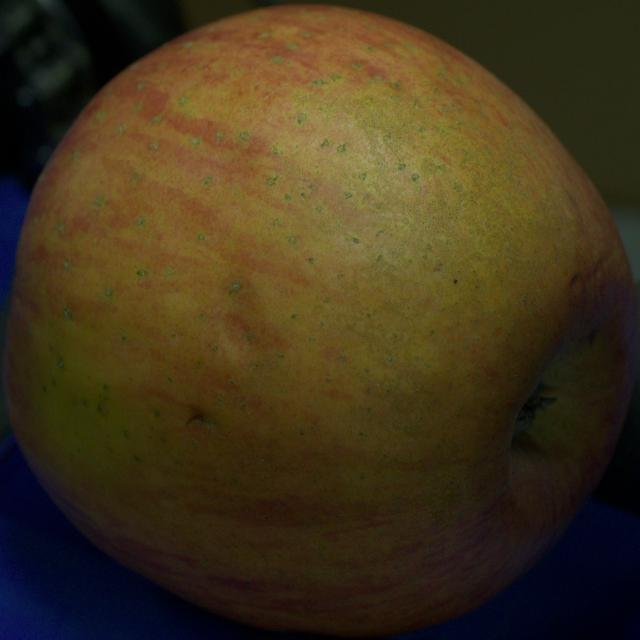apple: (4, 6, 639, 636)
bruise: (212, 274, 282, 362), (593, 252, 621, 280)
scratch: (188, 414, 231, 440)
